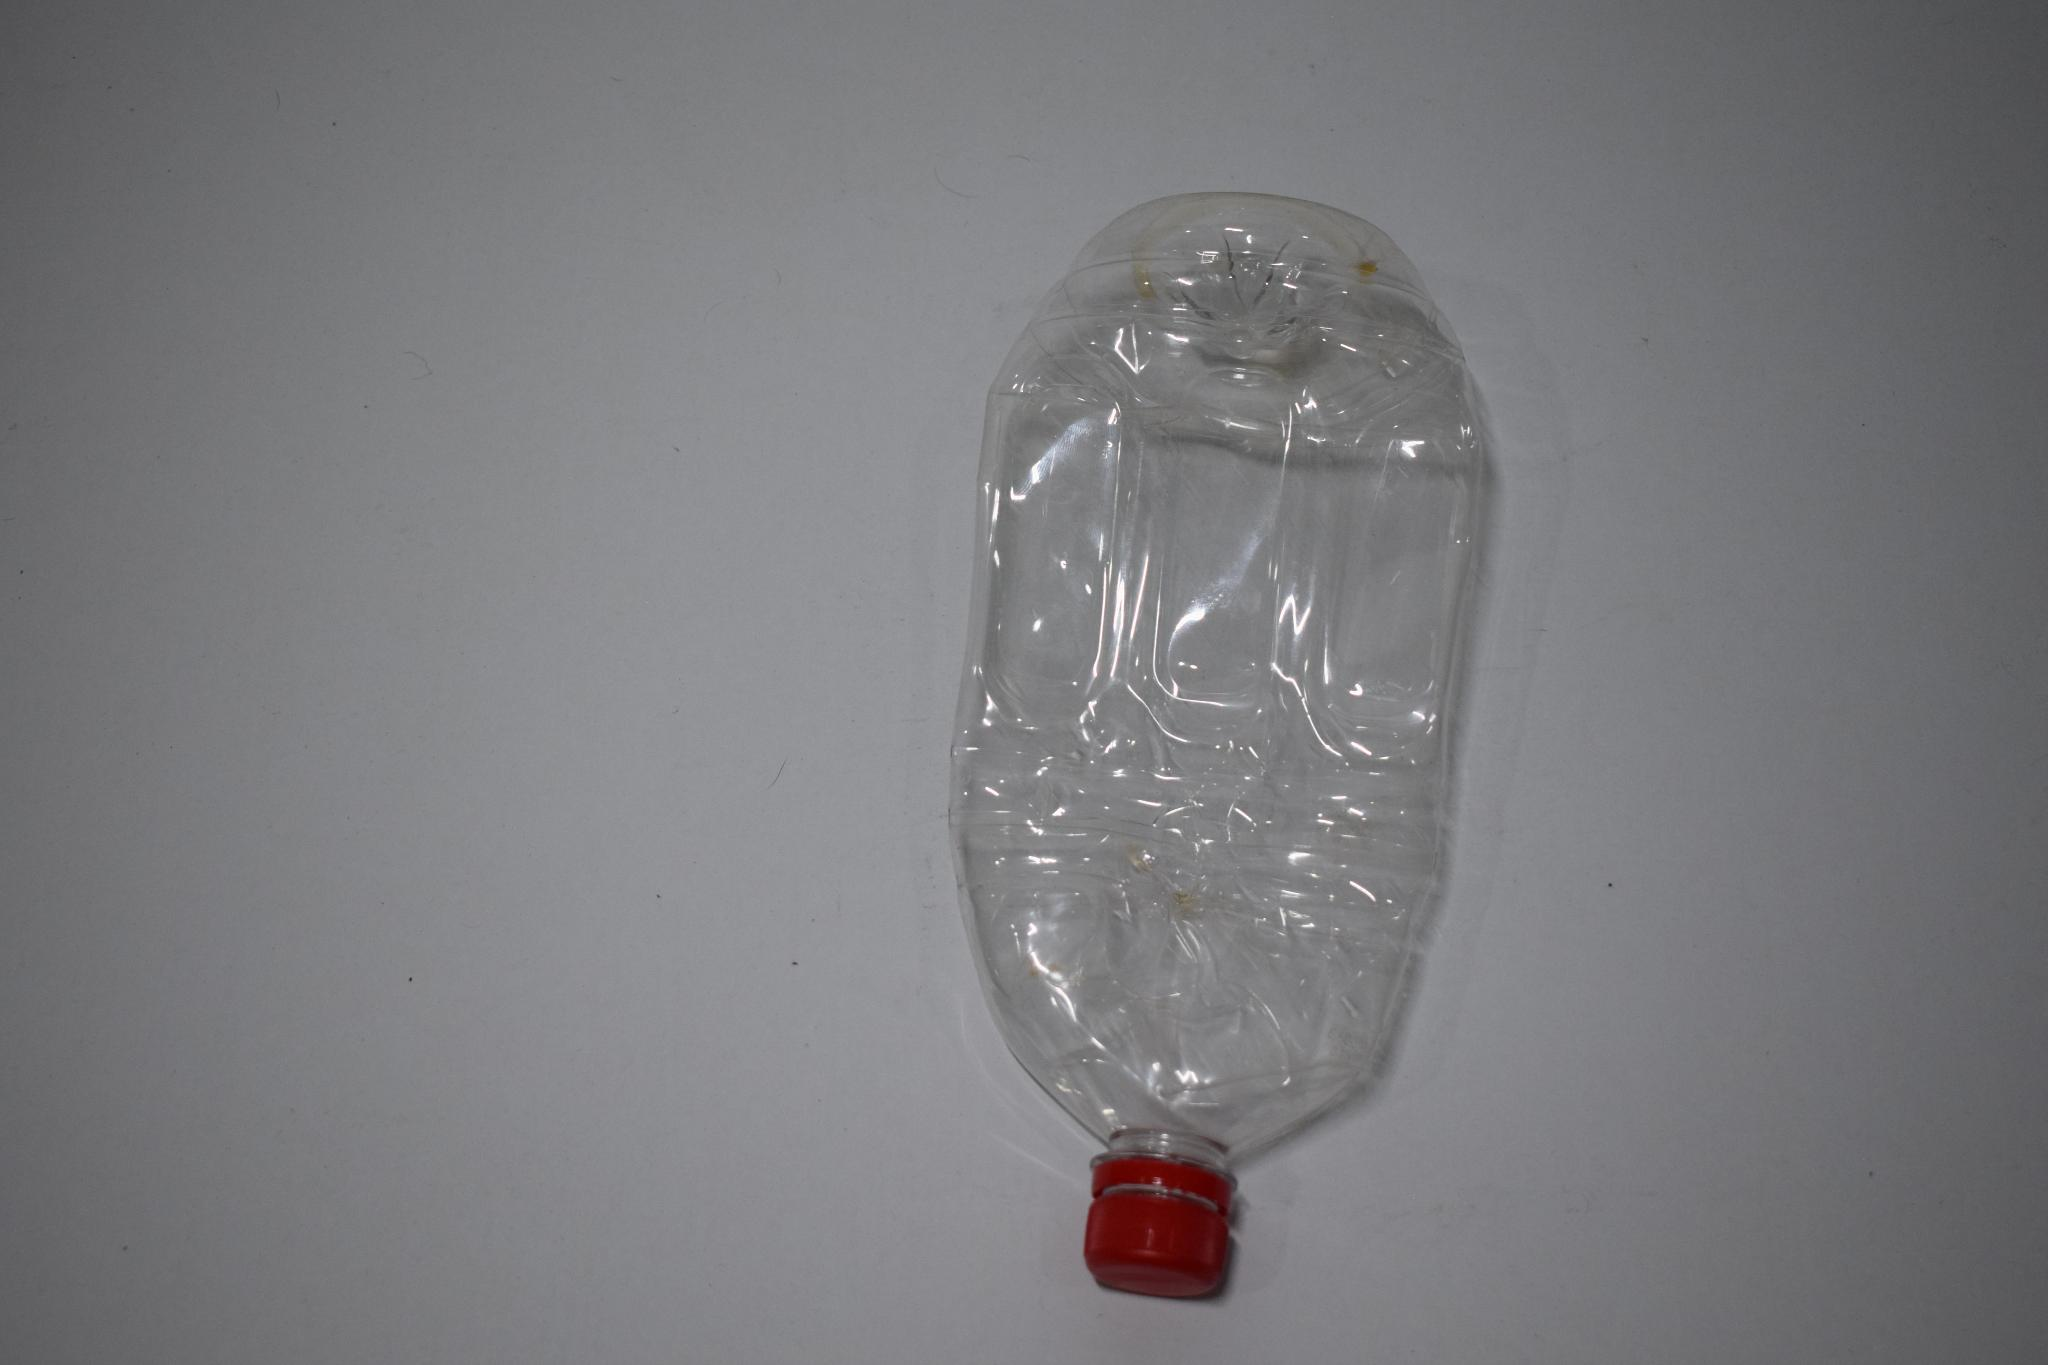bottle: (936, 175, 1507, 1325)
